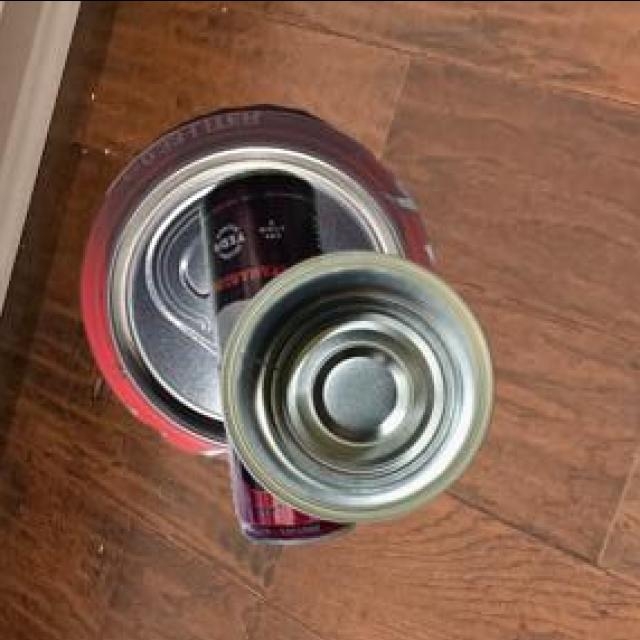logam: (77, 102, 431, 455), (216, 247, 491, 518), (196, 164, 355, 540)
